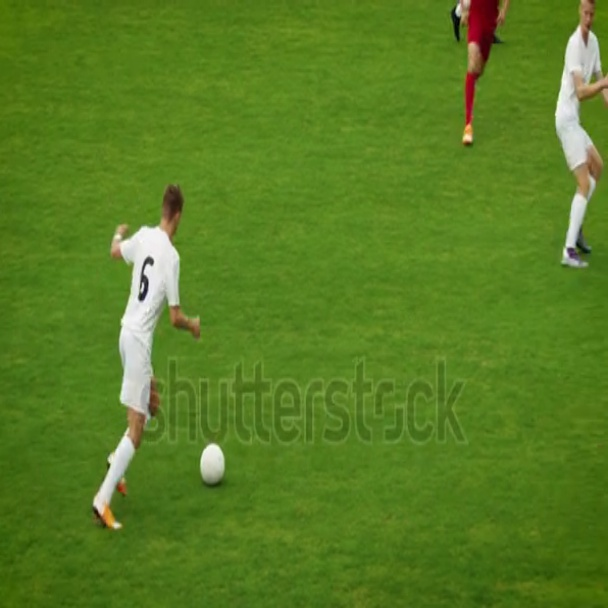ball: (196, 439, 227, 487)
